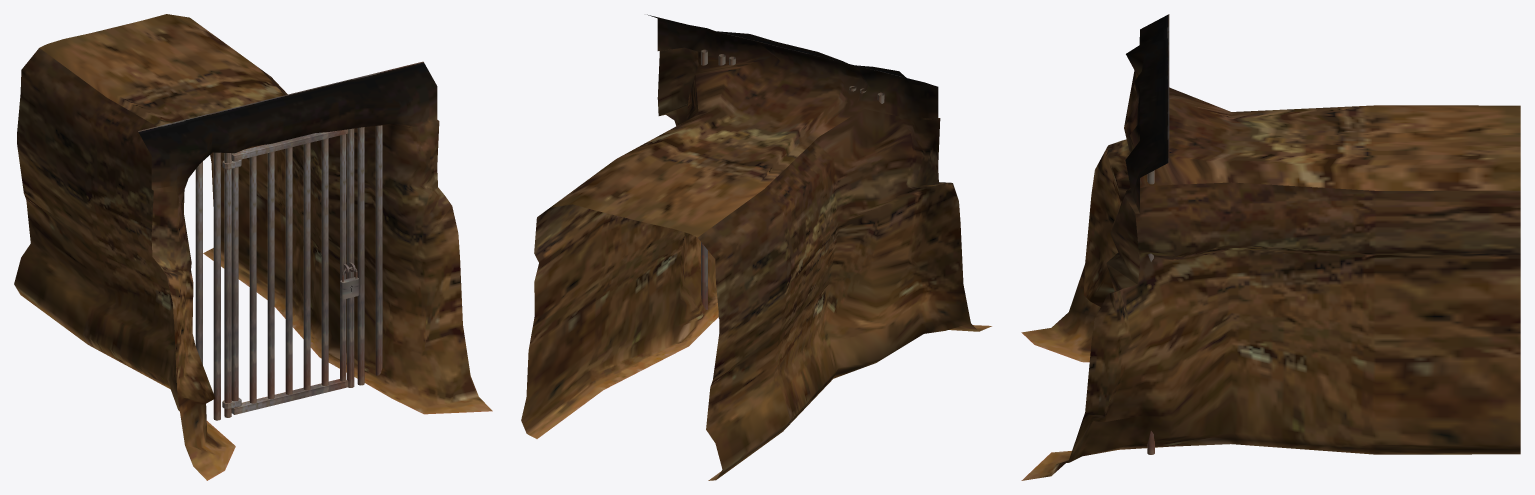
The model's file is tunnelDoorA.fbx.
3 views of the same model, side by side, from view 1: azimuth 30°, elevation 25°; view 2: azimuth 150°, elevation 25°; view 3: azimuth 270°, elevation 25° (orthographic). The views are drawn at different scales.
Visible parts, largest first — view 1: tunnelDoorA; view 2: tunnelDoorA; view 3: tunnelDoorA.
Boxes of the visible parts, x1=… form: tunnelDoorA: x1=14, y1=14, x2=492, y2=480; tunnelDoorA: x1=521, y1=14, x2=991, y2=480; tunnelDoorA: x1=1021, y1=14, x2=1520, y2=480.
Bounding box in the file's own units: 300 × 300 × 426.
